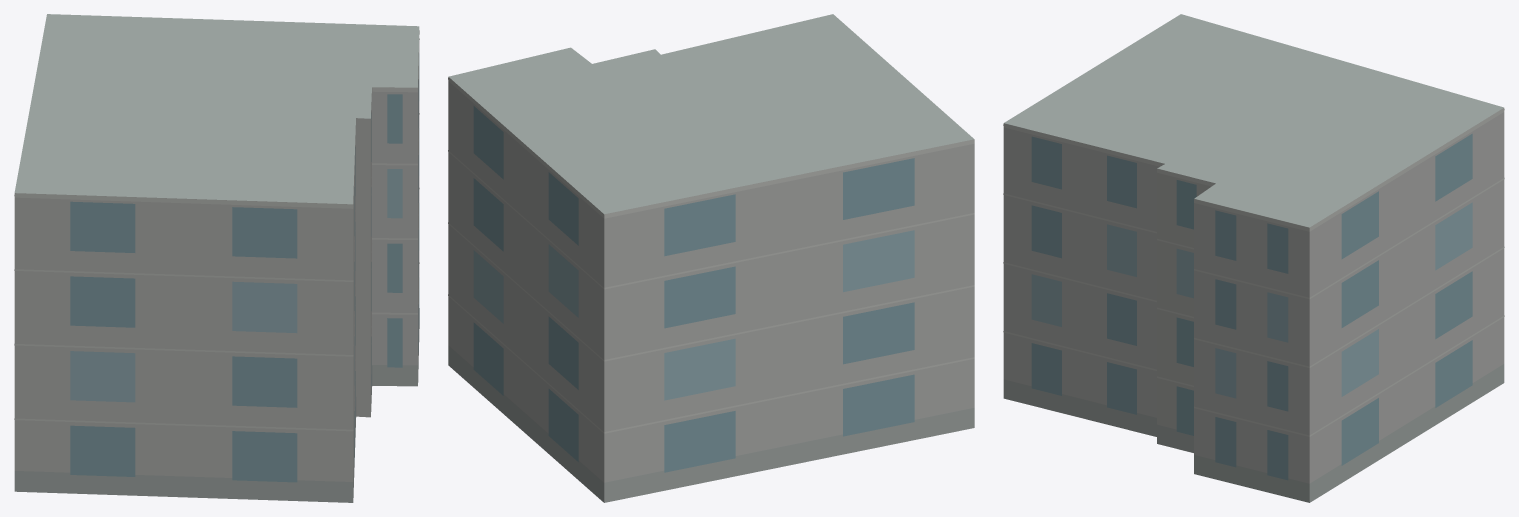
The model's file is survey-upis-32469459.glb.
3 views of the same model, side by side, from view 1: azimuth 30°, elevation 25°; view 2: azimuth 150°, elevation 25°; view 3: azimuth 270°, elevation 25° (orthographic). The views are drawn at different scales.
Parts seen in each view (by area): view 1: survey-upis-32469459.tmp; view 2: survey-upis-32469459.tmp; view 3: survey-upis-32469459.tmp.
Boxes of the visible parts, x1=… form: survey-upis-32469459.tmp: x1=14, y1=14, x2=419, y2=502; survey-upis-32469459.tmp: x1=448, y1=14, x2=974, y2=502; survey-upis-32469459.tmp: x1=1003, y1=14, x2=1504, y2=502.
Bounding box in the file's own units: 26.64 × 16 × 26.4.
